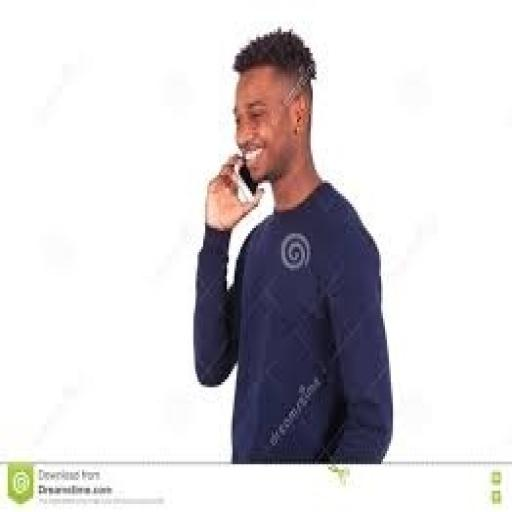calling: (190, 24, 394, 464)
